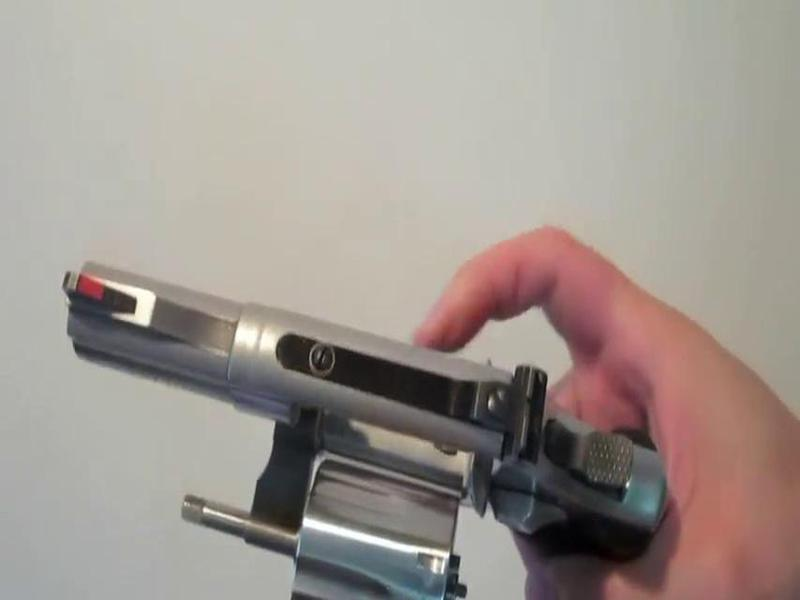Revolver: (38, 254, 669, 600)
